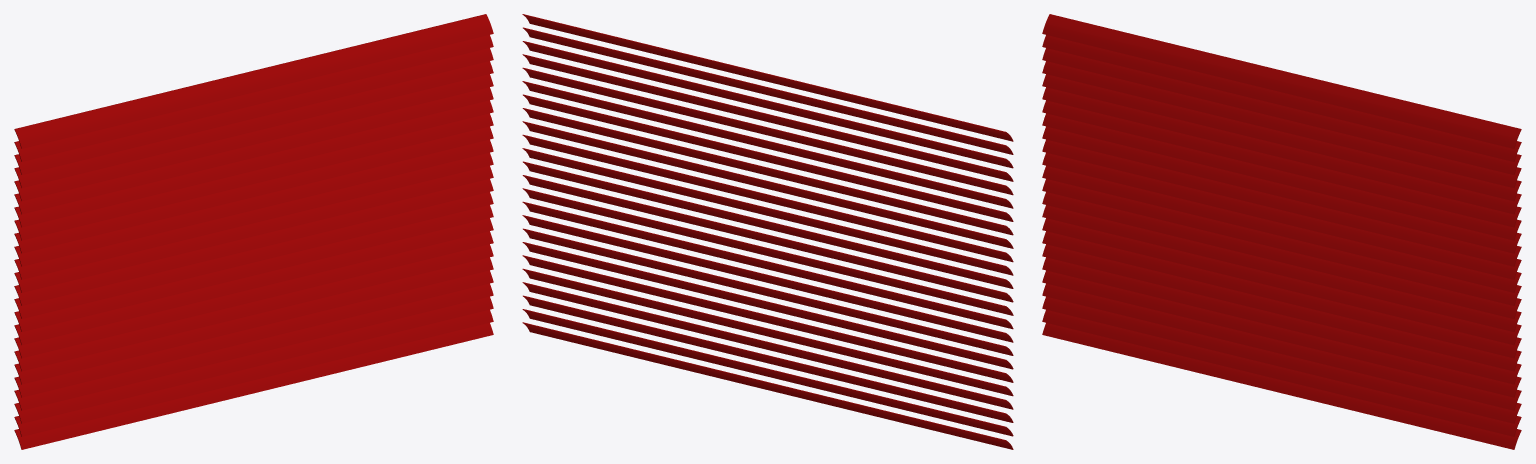
File: shade.glb
3 views of the same model, side by side, from view 1: azimuth 30°, elevation 25°; view 2: azimuth 150°, elevation 25°; view 3: azimuth 330°, elevation 25° (orthographic). The views are drawn at different scales.
Parts seen in each view (by area): view 1: Plane, Plane.007, Plane.010, Plane.018, Plane.020, Plane.002, Plane.003, Plane.013, Plane.016, Plane.021, Plane.023, Plane.001 (+12 smaller); view 2: Plane.020, Plane, Plane.005, Plane.010, Plane.015, Plane.003, Plane.007, Plane.012, Plane.013, Plane.018, Plane.017, Plane.019 (+12 smaller); view 3: Plane, Plane.007, Plane.010, Plane.018, Plane.020, Plane.002, Plane.003, Plane.013, Plane.016, Plane.021, Plane.023, Plane.001 (+12 smaller).
Boxes of the visible parts, left/top/right/bottom form: Plane: left=14, top=14, right=493, bottom=148; Plane.007: left=14, top=113, right=493, bottom=240; Plane.010: left=14, top=152, right=493, bottom=279; Plane.018: left=14, top=257, right=493, bottom=384; Plane.020: left=14, top=283, right=493, bottom=410; Plane.002: left=14, top=48, right=493, bottom=174; Plane.003: left=14, top=61, right=493, bottom=187; Plane.013: left=14, top=192, right=493, bottom=318; Plane.016: left=14, top=231, right=493, bottom=358; Plane.021: left=14, top=296, right=493, bottom=423; Plane.023: left=14, top=323, right=493, bottom=449; Plane.001: left=14, top=35, right=493, bottom=161; Plane.020: left=522, top=282, right=1013, bottom=409; Plane: left=522, top=14, right=1013, bottom=141; Plane.005: left=522, top=81, right=1013, bottom=208; Plane.010: left=522, top=148, right=1013, bottom=275; Plane.015: left=522, top=215, right=1013, bottom=342; Plane.003: left=522, top=54, right=1013, bottom=181; Plane.007: left=522, top=108, right=1013, bottom=235; Plane.012: left=522, top=175, right=1013, bottom=302; Plane.013: left=522, top=188, right=1013, bottom=315; Plane.018: left=522, top=255, right=1013, bottom=382; Plane.017: left=522, top=242, right=1013, bottom=369; Plane.019: left=522, top=268, right=1013, bottom=396; Plane: left=1042, top=14, right=1521, bottom=148; Plane.007: left=1042, top=113, right=1521, bottom=240; Plane.010: left=1042, top=152, right=1521, bottom=279; Plane.018: left=1042, top=257, right=1521, bottom=384; Plane.020: left=1042, top=283, right=1521, bottom=410; Plane.002: left=1042, top=48, right=1521, bottom=174; Plane.003: left=1042, top=61, right=1521, bottom=187; Plane.013: left=1042, top=192, right=1521, bottom=318; Plane.016: left=1042, top=231, right=1521, bottom=358; Plane.021: left=1042, top=296, right=1521, bottom=423; Plane.023: left=1042, top=323, right=1521, bottom=449; Plane.001: left=1042, top=35, right=1521, bottom=161.
Bounding box in the file's own units: 11.91 × 7.61 × 0.3407.
